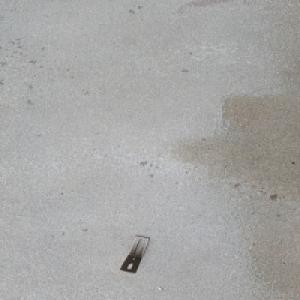MetalPart: (119, 235, 150, 274)
